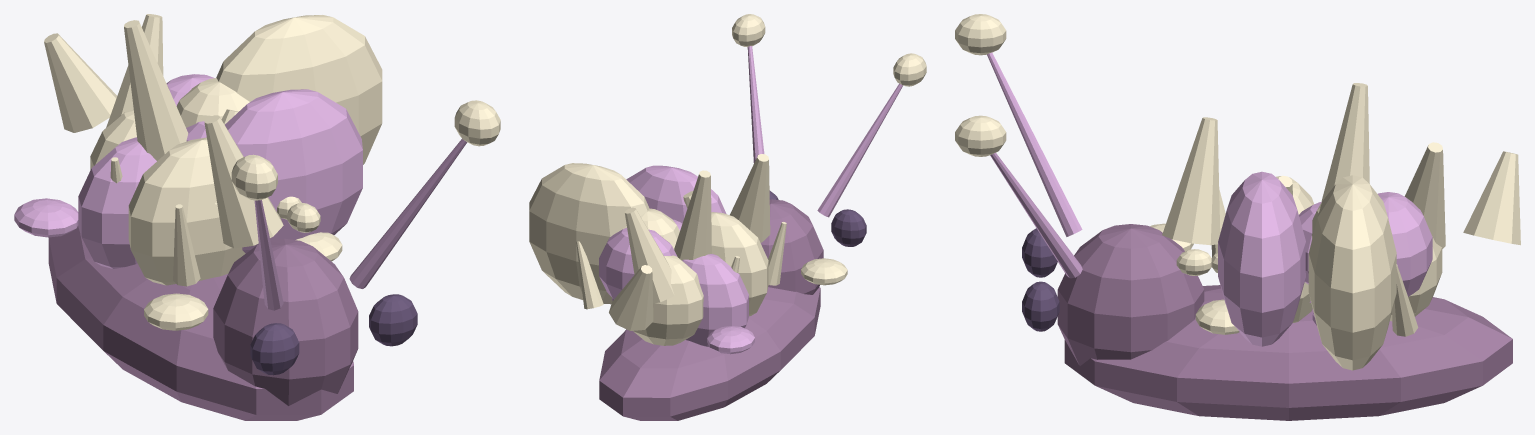
Rendered from OriginalBoneSnail.glb.
The picture shows the model from 3 angles, left to right: view 1: azimuth 30°, elevation 25°; view 2: azimuth 150°, elevation 25°; view 3: azimuth 270°, elevation 25°; orthographic projection. The views are drawn at different scales.
Visible parts, largest first — view 1: SlimeFoot, Head, ShellCoil1, ShellCoil0, ShellCoil2, ShellCoil3, CrestSpine_2, CrestSpine_4, CrestSpine_0, AntennaStem1, ShellCoil6, SignatureScale_5 (+12 smaller); view 2: SlimeFoot, ShellCoil0, ShellCoil3, ShellCoil4, Head, ShellCoil2, ShellCoil1, CrestSpine_2, CrestSpine_4, CrestSpine_1, CrestSpine_0, ShellCoil5 (+10 smaller); view 3: SlimeFoot, Head, ShellCoil0, ShellCoil1, CrestSpine_4, CrestSpine_0, ShellCoil5, CrestSpine_2, CrestSpine_1, AntennaStem-1, AntennaStem1, AntennaTip1 (+9 smaller).
Boxes of the visible parts, x1=… form: SlimeFoot: x1=48, y1=226, x2=353, y2=420; Head: x1=213, y1=238, x2=358, y2=405; ShellCoil1: x1=225, y1=89, x2=362, y2=253; ShellCoil0: x1=216, y1=15, x2=382, y2=164; ShellCoil2: x1=128, y1=137, x2=245, y2=285; ShellCoil3: x1=78, y1=137, x2=156, y2=268; CrestSpine_2: x1=124, y1=20, x2=188, y2=160; CrestSpine_4: x1=204, y1=115, x2=283, y2=248; CrestSpine_0: x1=44, y1=33, x2=117, y2=132; AntennaStem1: x1=349, y1=139, x2=467, y2=288; ShellCoil6: x1=176, y1=78, x2=249, y2=127; SignatureScale_5: x1=14, y1=198, x2=78, y2=237; SlimeFoot: x1=599, y1=287, x2=820, y2=420; ShellCoil0: x1=529, y1=163, x2=649, y2=304; ShellCoil3: x1=682, y1=254, x2=748, y2=347; ShellCoil4: x1=633, y1=255, x2=703, y2=345; Head: x1=760, y1=199, x2=823, y2=294; ShellCoil2: x1=711, y1=212, x2=768, y2=316; ShellCoil1: x1=626, y1=165, x2=726, y2=223; CrestSpine_2: x1=674, y1=170, x2=711, y2=260; CrestSpine_4: x1=730, y1=154, x2=770, y2=242; CrestSpine_1: x1=625, y1=207, x2=674, y2=303; CrestSpine_0: x1=609, y1=265, x2=653, y2=330; ShellCoil5: x1=599, y1=228, x2=677, y2=298; SlimeFoot: x1=1064, y1=285, x2=1512, y2=420; Head: x1=1057, y1=224, x2=1204, y2=365; ShellCoil0: x1=1308, y1=175, x2=1396, y2=370; ShellCoil1: x1=1218, y1=171, x2=1305, y2=346; CrestSpine_4: x1=1162, y1=117, x2=1220, y2=245; CrestSpine_0: x1=1463, y1=151, x2=1520, y2=245; ShellCoil5: x1=1378, y1=192, x2=1432, y2=296; CrestSpine_2: x1=1321, y1=83, x2=1369, y2=201; CrestSpine_1: x1=1404, y1=142, x2=1445, y2=248; AntennaStem-1: x1=987, y1=52, x2=1082, y2=236; AntennaStem1: x1=990, y1=152, x2=1082, y2=278; AntennaTip1: x1=955, y1=115, x2=1006, y2=156.
Size of the model in its own units: 1.22 by 1.22 by 1.85.
